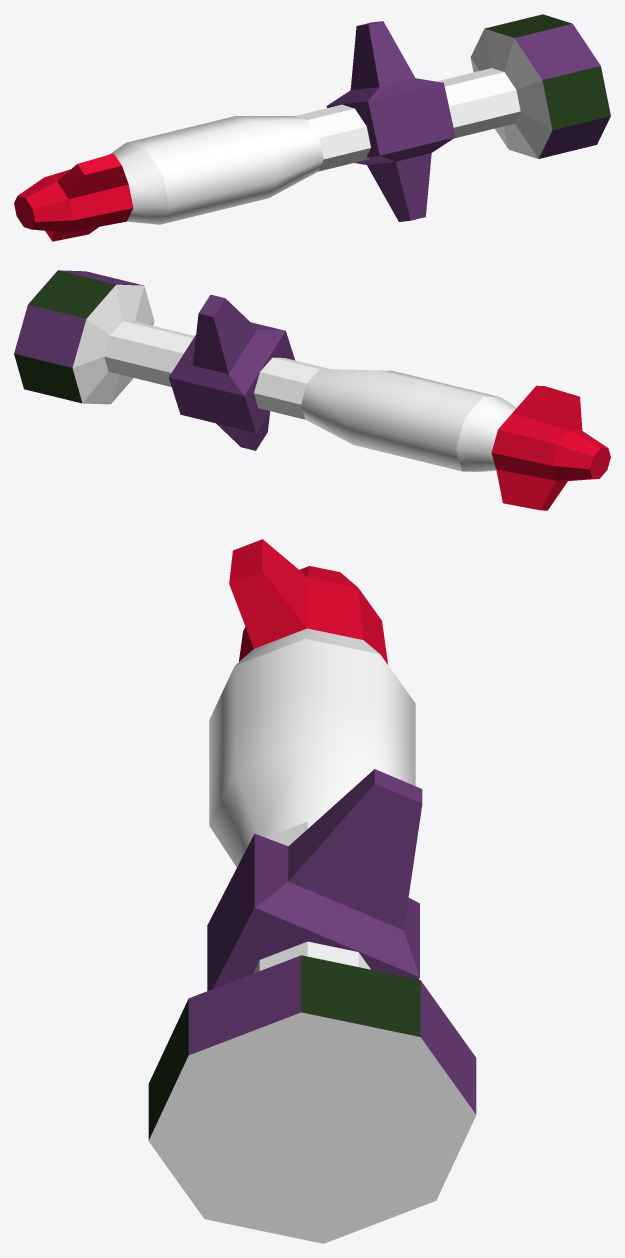
File: Missile.FBX
The picture shows the model from 3 angles, top to bottom: view 1: azimuth 30°, elevation 25°; view 2: azimuth 150°, elevation 25°; view 3: azimuth 270°, elevation 25°; orthographic projection. The views are drawn at different scales.
Visible parts, largest first — view 1: Cylinder001; view 2: Cylinder001; view 3: Cylinder001.
Boxes of the visible parts, x1,y1,x2,y2 form: Cylinder001: (14,14,610,241); Cylinder001: (14,270,610,510); Cylinder001: (148,539,476,1243).
Size of the model in its own units: 260 by 79.82 by 67.77.
1 material, 1 textured.
